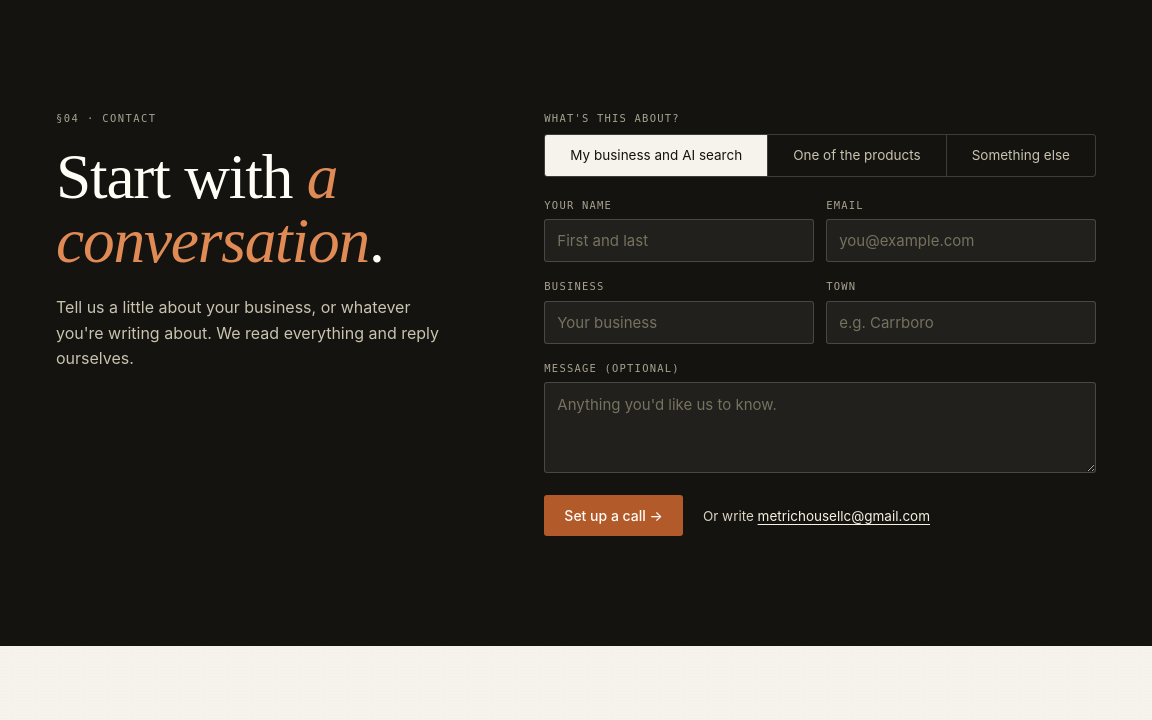
Scenario: Contact › requires a message on Something else
Click the radio button labelled "Something else": (1020, 156) 946,135 -> 1095,176
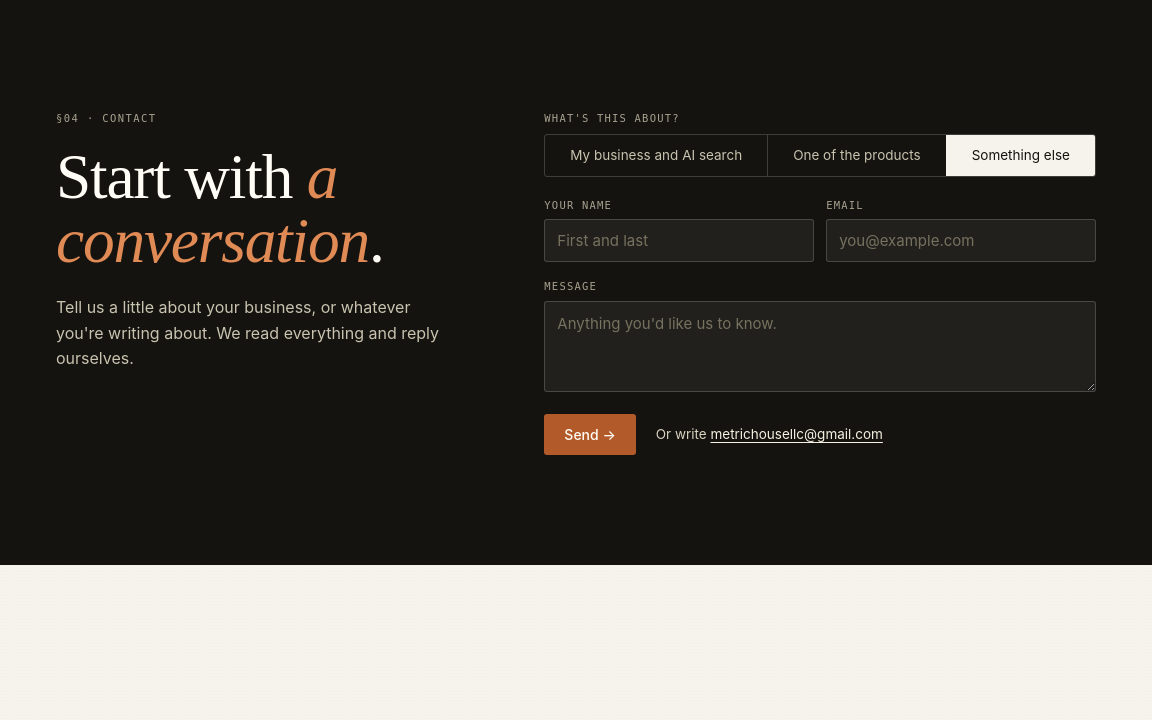
In the field with placeholder "First and last": (679, 241) 544,220 -> 814,262, type "Pat"
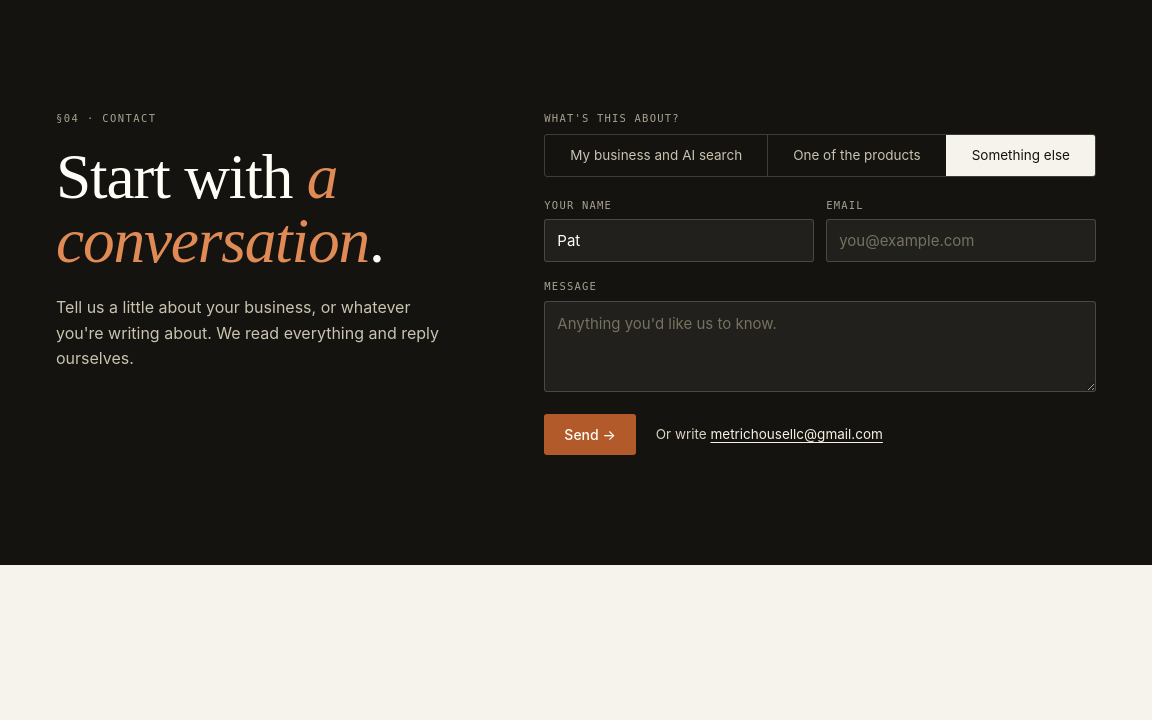
In the field with placeholder "you@example.com": (961, 241) 826,220 -> 1096,262, type "pat@example.com"
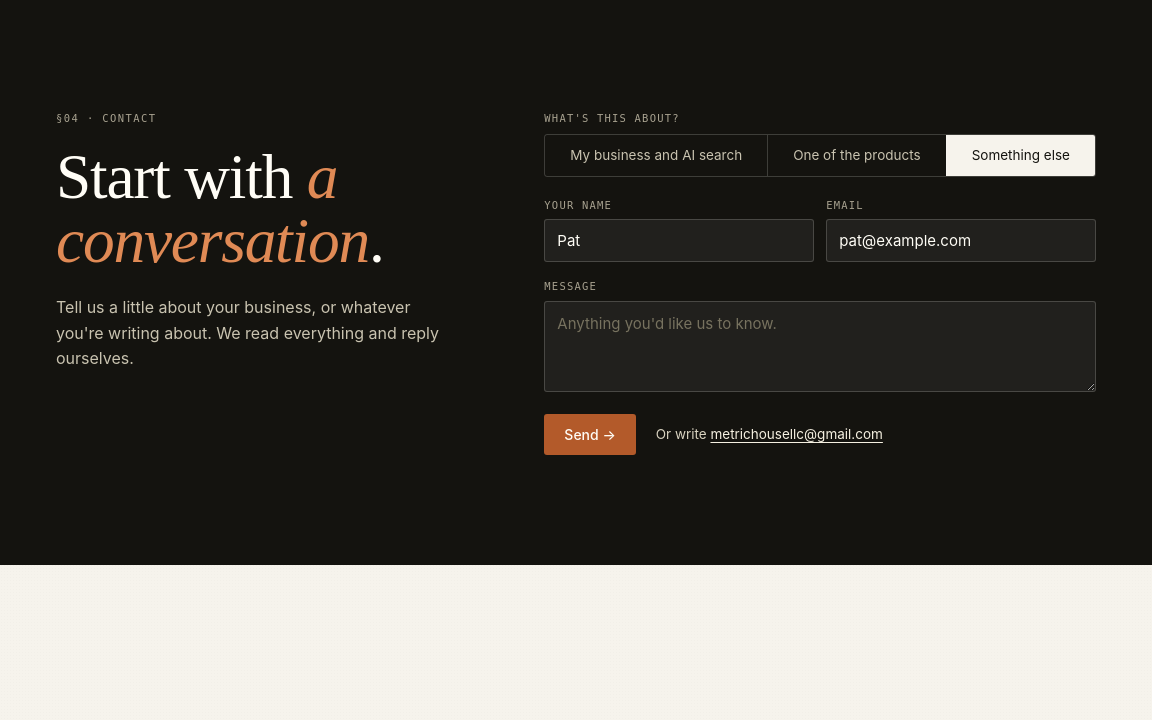
Click the button "Send →": (590, 435) 544,414 -> 636,455
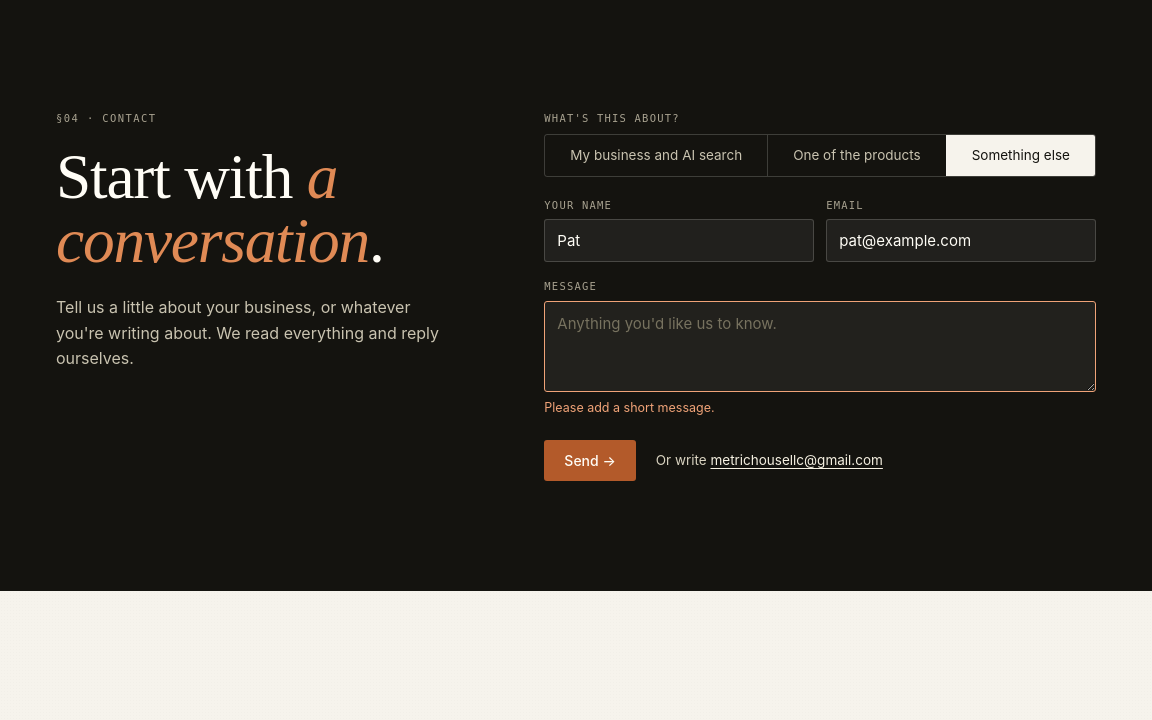
expect the text "Please add a short message." is shown: met, box 544,400 -> 714,415
